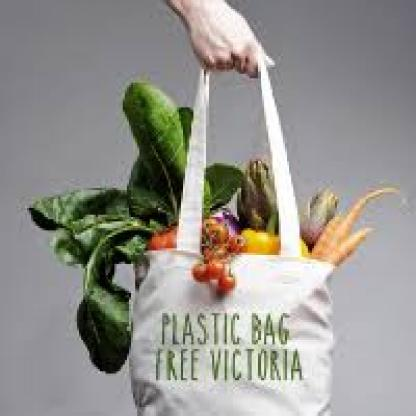Miscellaneous: (122, 33, 341, 416)
